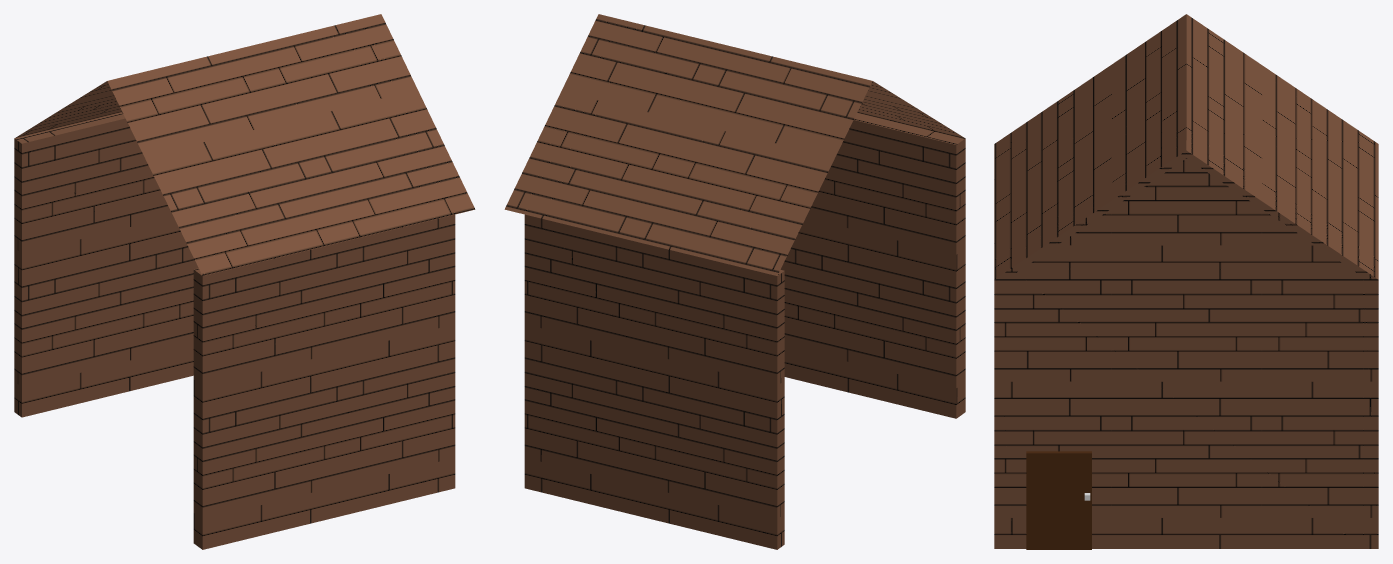
Rendered from birmingham residence.glb.
The picture shows the model from 3 angles, left to right: view 1: azimuth 30°, elevation 25°; view 2: azimuth 150°, elevation 25°; view 3: azimuth 270°, elevation 25°; orthographic projection. The views are drawn at different scales.
Visible parts, largest first — view 1: Cube; view 2: Cube; view 3: Cube, Cube.001.
Part boxes in pixels (x1,y1,x2,y2): Cube: (14, 14, 475, 549); Cube: (504, 14, 965, 549); Cube: (994, 14, 1378, 548); Cube.001: (1026, 451, 1091, 549).
Bounding box in the file's own units: 27.47 × 38.34 × 32.66.
Materials: 2 (1 with a texture image).
